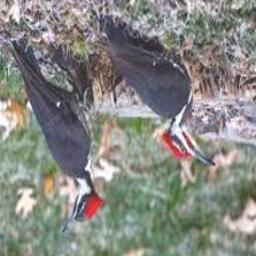Woodpecker: (3, 34, 104, 232), (93, 30, 215, 167)
